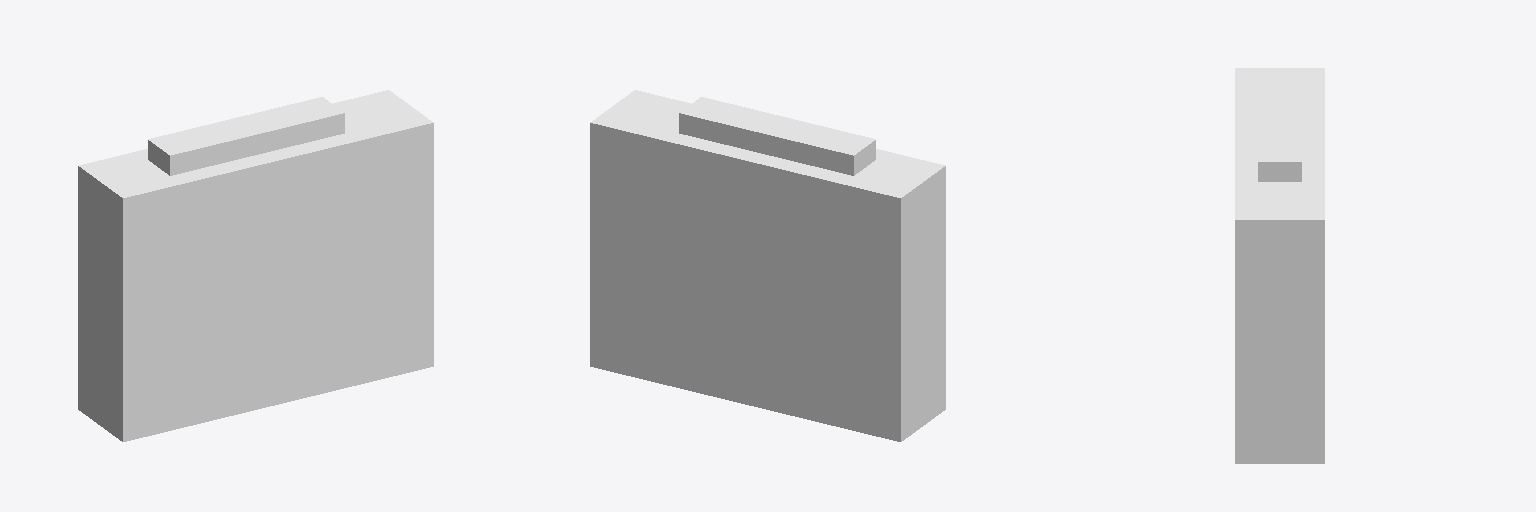
Rendered from Gun1-8 1.obj.
The picture shows the model from 3 angles: view 1: azimuth 30°, elevation 25°; view 2: azimuth 150°, elevation 25°; view 3: azimuth 270°, elevation 25°; orthographic projection.
Visible parts, largest first — view 1: object 1; view 2: object 1; view 3: object 1.
Part boxes in pixels (bbox=[...]): object 1: bbox=[78, 90, 433, 441]; object 1: bbox=[590, 90, 945, 441]; object 1: bbox=[1235, 68, 1324, 463].
Size of the model in its own units: 1.6 by 1.3 by 0.4.